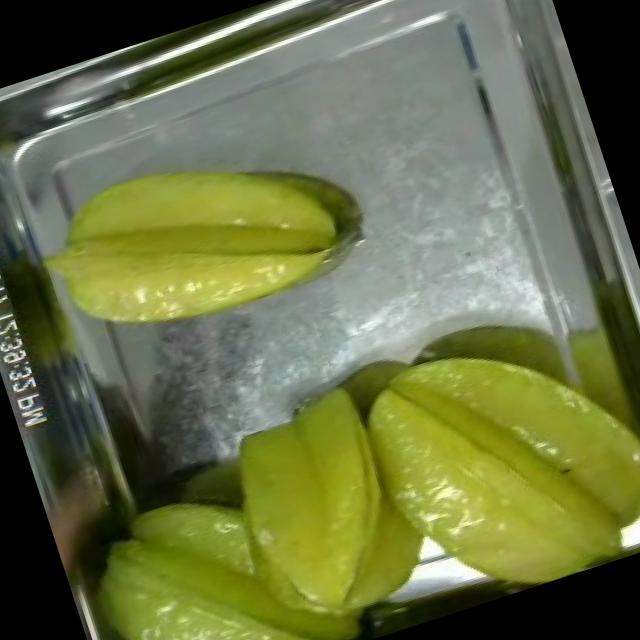fruit: (321, 277, 640, 629), (42, 379, 463, 640), (20, 106, 368, 370)
